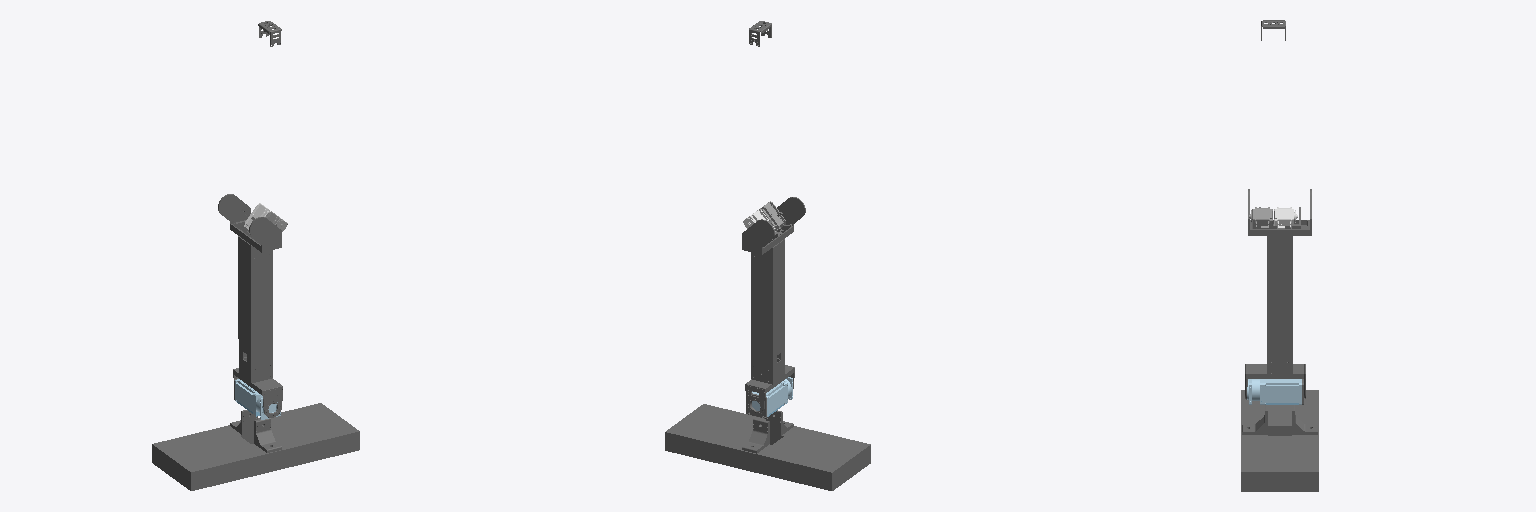
robot.urdf — robot_diff:
<?xml version="1.0"?>
<robot name="robot_diff" xmlns:xacro="http://ros.org/wiki/urdf">
 <link name="base_link">
 </link>
 <link name="Base">
  <visual>
    <origin xyz="0 0 0" rpy="0 0 0 " />
    <geometry>
	    <mesh filename="package://manipulator_description/meshes/base_fix.dae" />
    </geometry>
  </visual>
  <collision>
    <origin xyz="0 0 0" rpy="0 0 0 " />
    <geometry>
	    <mesh filename="package://manipulator_description/meshes/base_fix.dae" />
    </geometry>
  </collision>
  <inertial>
    <origin xyz="0 0 0" rpy="0 0 0 "/>
    <mass value="2.6"/>
    <inertia ixx="7.77716e+3"  ixy="0.00000e+0"  ixz="0.00000e+0" iyy="4.619e+4" iyz="0.00000e+0" izz="5.29561e+4" />
  </inertial>
  </link>
  <joint name="Base_to_base" type="fixed">
    <parent link="base_link"/>
    <child link="Base"/>
    <origin xyz="0.0 0.0 0.0" rpy="0 0 0" />
  </joint>
  
  <!-- Motor 1 -->
  <link name="Motor1">
    <visual>
      <origin xyz="0 0 0" rpy="1.571 0 0" />
      <geometry>
	      <mesh filename="package://manipulator_description/meshes/motor1.dae" />
      </geometry>
    </visual>
    <collision>
      <origin xyz="0 0 0" rpy="1.571 0 0 " />
      <geometry>
        <mesh filename="package://manipulator_description/meshes/motor1.dae" />
      </geometry>
    </collision>
    <inertial>
      <origin xyz="0 0 0" rpy="1.571 0 0 "/>
      <mass value="0.856"/>
      <inertia ixx="1.26094285e-3"  ixy="0.00000e+0"  ixz="0.00000e+0" iyy="3.79002180e-4" iyz="-5.78993250e-9" izz="1.26040377e-3" />
    </inertial>
    </link>
  <joint name="base_motor1" type="fixed">
    <parent link="Base"/>
    <child link="Motor1"/>
    <origin xyz="0 0 0.09" rpy="0 0 1.571" />
    <axis xyz="0 0 0" rpy="0 0 0"/>
  </joint>


  <!-- Fix 1 -->
   <!-- <link name="Fix1">
    <visual>
      <origin xyz="0 0 0" rpy="0 0 0" />
      <geometry>
	      <mesh filename="package://manipulator_description/meshes/fix1.dae" />
      </geometry>
    </visual>
    <collision>
      <origin xyz="0 0 0" rpy="0 0 0" />
      <geometry>
        <mesh filename="package://manipulator_description/meshes/fix1.dae" />
      </geometry>
    </collision>
    <inertial>
      <origin xyz="0 0 0" rpy="0 0 0"/>
      <mass value="0.11763625"/>
      <inertia ixx="4.62147e+1"  ixy="-1.98702e-3"  ixz="1.71669e+1" iyy="6.01841e+1" iyz="-3.58878e-3" izz="4.64090e+1" />
    </inertial>
    </link>
  <joint name="motor1_fix1" type="fixed">
    <parent link="Motor1"/>
    <child link="Fix1"/>
    <origin xyz="0.0 0 0.0" rpy="0 0 0" />
  </joint> -->

  <!-- Fix 2 -->
   <!-- <link name="Fix2">
    <visual>
      <origin xyz="-0.045 -0.02 0.027" rpy="0 0 3.14" />
      <geometry>
	      <mesh filename="package://manipulator_description/meshes/fix2.dae" />
      </geometry>
    </visual>
    <collision>
      <origin xyz="-0.045 -0.02 0.027" rpy="0 0 3.14 " />
      <geometry>
        <mesh filename="package://manipulator_description/meshes/fix2.dae" />
      </geometry>
    </collision>
    <inertial>
      <origin xyz="-0.045 -0.02 0.027" rpy="0 0 3.14"/>
      <mass value="0.11763625"/>
      <inertia ixx="4.62147e+1"  ixy="-1.98702e-3"  ixz="1.71669e+1" iyy="6.01841e+1" iyz="-3.58878e-3" izz="4.64090e+1" />
    </inertial>
    </link>
  <joint name="motor1_fix2" type="fixed">
    <parent link="Motor1"/>
    <child link="Fix2"/>
    <origin xyz="0.0 0.0 0.0" rpy="0 0 0" />
  </joint> -->


 <!-- Elo 1 -->
   <link name="Elo1">
    <visual>
      <origin xyz="0 0 0" rpy="-3.14 0 0" />
      <geometry>
	      <mesh filename="package://manipulator_description/meshes/elo1.dae" />
      </geometry>
    </visual>
    <collision>
      <origin xyz="0 0 0" rpy="-3.14 0 0" />
      <geometry>
        <mesh filename="package://manipulator_description/meshes/elo1.dae" />
      </geometry>
    </collision>
    <inertial>
      <origin xyz="0 0 0" rpy="-3.14 0 0"/>
      <mass value="0.15040432"/>
      <inertia ixx="3.45063e+1"  ixy="0.00000e+0"  ixz="0.00000e+0" iyy="1.07762e+2" iyz="0.00000e+0" izz="1.38659e+2" />
    </inertial>
    </link>
  <joint name="motor1_elo1" type="continuous">
    <parent link="Motor1"/>
    <child link="Elo1"/>
    <origin xyz="0.0 0.0 0.036" rpy="3.14 0 0" />
    <axis xyz="0 0 1" rpy="0 0 0"/>
  </joint>


 <!-- Motor 2 -->
  <link name="Motor2">
    <visual>
      <origin xyz="0 0 0" rpy="1.571 0 0" />
      <geometry>
	      <mesh filename="package://manipulator_description/meshes/motor2.dae" />
      </geometry>
    </visual>
    <collision>
      <origin xyz="0 0 0" rpy="1.571 0 0" />
      <geometry>
        <mesh filename="package://manipulator_description/meshes/motor2.dae" />
      </geometry>
    </collision>
    <inertial>
      <origin xyz="0 0 0" rpy="1.571 0 0"/>
      <mass value="0.856"/>
      <inertia ixx="1.26094285e-3"  ixy="0.00000e+0"  ixz="0.00000e+0" iyy="3.79002180e-4" iyz="-5.78993250e-9" izz="1.26040377e-3" />
    </inertial>
    </link>
  <joint name="elo1_motor2" type="fixed">
    <parent link="Elo1"/>
    <child link="Motor2"/>
    <origin xyz="-0.04 0.0 -0.027" rpy="-1.571 1.571 1.571" />
    <axis xyz="0 0 0" rpy="0 0 0"/>
  </joint>


  <!-- Fix Motor2 -->
   <link name="Fix_Motor2">
    <visual>
      <origin xyz="0 0 0" rpy="1.571 0 0" />
      <geometry>
	      <mesh filename="package://manipulator_description/meshes/fixmotor2.dae" />
      </geometry>
    </visual>
    <collision>
      <origin xyz="0 0 0" rpy="1.571 0 0 " />
      <geometry>
        <mesh filename="package://manipulator_description/meshes/fixmotor2.dae" />
      </geometry>
    </collision>
    <inertial>
      <origin xyz="0 0 0" rpy="1.571 0 0"/>
      <mass value="0.03239855"/>
      <inertia ixx="9.57551961e-6"  ixy="-1.52519365e-14"  ixz="7.17291197e-16" iyy="9.41926366e-6" iyz="1.37735170e-11" izz="1.88295847e-5" />
    </inertial>
    </link>
  <joint name="motor2_fix" type="fixed">
    <parent link="Motor2"/>
    <child link="Fix_Motor2"/>
    <origin xyz="0.0 0.0 -0.093" rpy="1.571 0 0" />
  </joint>

   <!-- Frame Motor2 -->
   <!-- <link name="Frame_Motor2">
    <visual>
      <origin xyz="0 0 0.03810000" rpy="0 0 0" />
      <geometry>
	      <mesh filename="package://manipulator_description/meshes/framemotor2.dae" />
      </geometry>
    </visual>
    <collision>
      <origin xyz="0 0 0.03810000" rpy="0 0 0 " />
      <geometry>
        <mesh filename="package://manipulator_description/meshes/framemotor2.dae" />
      </geometry>
    </collision>
    <inertial>
      <origin xyz="0 0 0.03810000" rpy="0 0 0"/>
      <mass value="0.04276509"/>
      <inertia ixx="2.60129652e-5"  ixy="5.21881650e-13"  ixz="4.50524013e-6" iyy="2.04411046e-4" iyz="-4.21152332e-14" izz="1.99411922e-4" />
    </inertial>
    </link>
  <joint name="motor2_frame" type="continuous">
    <parent link="Motor2"/>
    <child link="Frame_Motor2"/>
    <origin xyz="0 -0.03 0" rpy="-1.571 0 -1.571" />
    <axis xyz="1 0 0" rpy="0 0 0"/>
  </joint> -->

   <!-- Elo 2-->
   <link name="Elo2">
    <visual>
      <origin xyz="-0.0292 0.2289 -0.04" rpy="0 1.571 0" />
      <geometry>
	      <mesh filename="package://manipulator_description/meshes/elo2.dae" />
      </geometry>
    </visual>
    <collision>
      <origin xyz="-0.0292 0.2289 -0.04" rpy="0 1.571 0 " />
      <geometry>
        <mesh filename="package://manipulator_description/meshes/elo2.dae" />
      </geometry>
    </collision>
    <inertial>
      <origin xyz="-0.0292 0.2289 -0.04" rpy="0 1.571 0"/>
      <mass value="1.09212028"/>
      <inertia ixx="2.47891806e-2"  ixy="-5.41904580e-4"  ixz="-2.41956050e-7" iyy="1.48343837e-3" iyz="-8.20873087e-6" izz="2.53662704e-2" />
    </inertial>
    </link>
  <joint name="elo2_motor2" type="revolute">
    <parent link="Motor2"/>
    <child link="Elo2"/>
    <limit effort="1000.0" lower="-1.77" upper="1.77" velocity="0.5"/>
    <origin xyz="-0.0008 0 0" rpy="0 0 -1.571"/>
    <axis xyz="0 0 1" rpy="0 0 0"/>
  </joint>


  <!-- Motor 3 R-->
   <link name="Motor3R">
    <visual>
      <origin xyz="0 0 0" rpy="0 0 -0.75" />
      <geometry>
	      <mesh filename="package://manipulator_description/meshes/motor3R.dae" />
      </geometry>
    </visual>
    <collision>
      <origin xyz="0 0 0" rpy="0 0 -0.75 " />
      <geometry>
        <mesh filename="package://manipulator_description/meshes/motor3R.dae" />
      </geometry>
    </collision>
    <inertial>
      <origin xyz="0 0 0" rpy="0 0 -0.75"/>
      <mass value="0.16505359"/>
      <inertia ixx="7.89080915e-5"  ixy="-3.13361612e-9"  ixz="4.40720922e-9" iyy="4.40037283e-5" iyz="-2.02636752e-6" izz="6.23905424e-5" />
    </inertial>
    </link>
  <joint name="motor3r_elo2" type="fixed">
    <parent link="Elo2"/>
    <child link="Motor3R"/>
    <origin xyz="0.03 0.451 0" rpy="0 0 0"/>
    <!-- <axis xyz="0 0 1" rpy="0 0 0"/> -->
  </joint>


  <!-- Motor 3 T-->
   <link name="Motor3T">
    <visual>
      <origin xyz="0.0 0.0 0.0" rpy="0 0 0.75" />
      <geometry>
	      <mesh filename="package://manipulator_description/meshes/motor3T.dae" />
      </geometry>
    </visual>
    <collision>
      <origin xyz="0.0 0.0 0.0" rpy="0 0 0.75 " />
      <geometry>
        <mesh filename="package://manipulator_description/meshes/motor3T.dae" />
      </geometry>
    </collision>
    <inertial>
      <origin xyz="0.0 0.0 0.0" rpy="0 0 0.75"/>
      <mass value="0.16499216"/>
      <inertia ixx="7.88952550e-5"  ixy="-3.13065901e-9"  ixz="4.40693303e-9" iyy="4.39861799e-5" iyz="-2.02737764e-6" izz="6.23603662e-5" />
    </inertial>
    </link>
  <joint name="motor3r_motor3t" type="fixed">
    <parent link="Motor3R"/>
    <child link="Motor3T"/>
    <origin xyz="0 0 -0.05" rpy="0 3.14 0"/>
    <!-- <axis xyz="0 0 1" rpy="0 0 0"/> -->
  </joint>

  <!-- Elo 3-->
   <link name="Elo3">
    <visual>
      <origin xyz="-0.01 0.02 0" rpy="0 1.571 0" />
      <geometry>
	      <mesh filename="package://manipulator_description/meshes/elo3.dae" />
      </geometry>
    </visual>
    <collision>
      <origin xyz="-0.01 0.02 0" rpy="0 1.571 0 " />
      <geometry>
        <mesh filename="package://manipulator_description/meshes/elo3.dae" />
      </geometry>
    </collision>
    <inertial>
      <origin xyz="-0.01 0.02 0" rpy="0 1.571 0"/>
      <mass value="0.59823526"/>
      <inertia ixx="9.21291416e-3"  ixy="3.08958647e-8"  ixz="-1.61573936e-11" iyy="5.96766733e-4" iyz="5.09431795e-6" izz="9.25476040e-3" />
    </inertial>
    </link>
  <joint name="motores_elo3" type="revolute">
    <parent link="Motor3T"/>
    <child link="Elo3"/>
    <limit effort="1000.0" lower="-1.46" upper="2.46" velocity="0.5"/>
    <origin xyz="0 0.001 -0.0375" rpy="0 0 0"/>
    <axis xyz="0 0 1" rpy="0 0 0"/> 
  </joint>

 <!-- Motor 4-->
   <link name="Motor4">
    <visual>
      <origin xyz="0.0 0.0 0.0" rpy="0 0 0" />
      <geometry>
	      <mesh filename="package://manipulator_description/meshes/motor4.dae" />
      </geometry>
    </visual>
    <collision>
      <origin xyz="0.0 0.0 0.0" rpy="0 0 0" />
      <geometry>
        <mesh filename="package://manipulator_description/meshes/motor4.dae" />
      </geometry>
    </collision>
    <inertial>
      <origin xyz="0.0 0.0 0.0" rpy="0 0 0"/>
      <mass value="0.16499216"/>
      <inertia ixx="7.88952550e-5"  ixy="-3.13065901e-9"  ixz="4.40693303e-9" iyy="4.39861799e-5" iyz="-2.02737764e-6" izz="6.23603662e-5" />
    </inertial>
    </link>
  <joint name="elo3_motor4" type="fixed">
    <parent link="Elo3"/>
    <child link="Motor4"/>
    <origin xyz="0 0.45 0.013" rpy="0 0 0"/>
  </joint>


<!-- Frame 4-->
   <link name="Frame4">
    <visual>
      <origin xyz="0 0 0" rpy="0 1.571 0" />
      <geometry>
	      <mesh filename="package://manipulator_description/meshes/frame4.dae" />
      </geometry>
    </visual>
    <collision>
      <origin xyz="0 0 0" rpy="0 1.571 0 " />
      <geometry>
        <mesh filename="package://manipulator_description/meshes/frame4.dae" />
      </geometry>
    </collision>
    <inertial>
      <origin xyz="0 0 0" rpy="0 1.571 0"/>
      <mass value="0.01873963"/>
      <inertia ixx="4.49588271e-6"  ixy="0.00000000e+0"  ixz="0.00000000e+0" iyy="1.08113872e-5" iyz="0.00000000e+0" izz="1.12040418e-5" />
    </inertial>
    </link>
  <joint name="motor4_frame4" type="revolute">
    <parent link="Motor4"/>
    <child link="Frame4"/>
    <limit effort="1000.0" lower="-1.90" upper="1.90" velocity="0.5"/>
    <origin xyz="0 0 0" rpy="0 0 0"/>
    <axis xyz="0 0 1" rpy="0 0 0"/> 
  </joint>
  

</robot>

--- Render facts (derived) ---
The picture shows the robot from 3 angles, left to right: view 1: azimuth 30°, elevation 25°; view 2: azimuth 150°, elevation 25°; view 3: azimuth 270°, elevation 25°; orthographic projection.
Model robot_diff with 12 links and 11 joints (3 revolute, 1 continuous, 7 fixed), rooted at base_link, posed all joints at 0.
Links seen in each view (by area): view 1: Base, Elo2, Motor2; view 2: Base, Elo2, Motor2; view 3: Base, Elo2, Motor2.
Link boxes in pixels (left/top/right/bottom): Base: left=152, top=403, right=359, bottom=490; Elo2: left=218, top=194, right=282, bottom=417; Motor2: left=235, top=379, right=280, bottom=419; Base: left=665, top=404, right=870, bottom=490; Elo2: left=742, top=197, right=805, bottom=413; Motor2: left=752, top=377, right=792, bottom=416; Base: left=1241, top=390, right=1318, bottom=491; Elo2: left=1245, top=189, right=1311, bottom=399; Motor2: left=1247, top=379, right=1301, bottom=404.
Bounding box of the posed robot: 0.448 × 0.179 × 1.09 m (x, y, z).
8 mesh visuals loaded from 11 distinct referenced files (8 Collada DAE); not drawn: 3 (reference not matched to a file when rendering).
